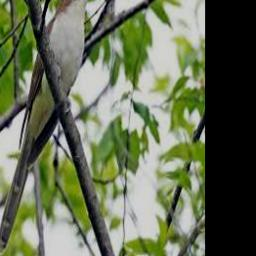Cuckoo: (0, 0, 100, 255)
